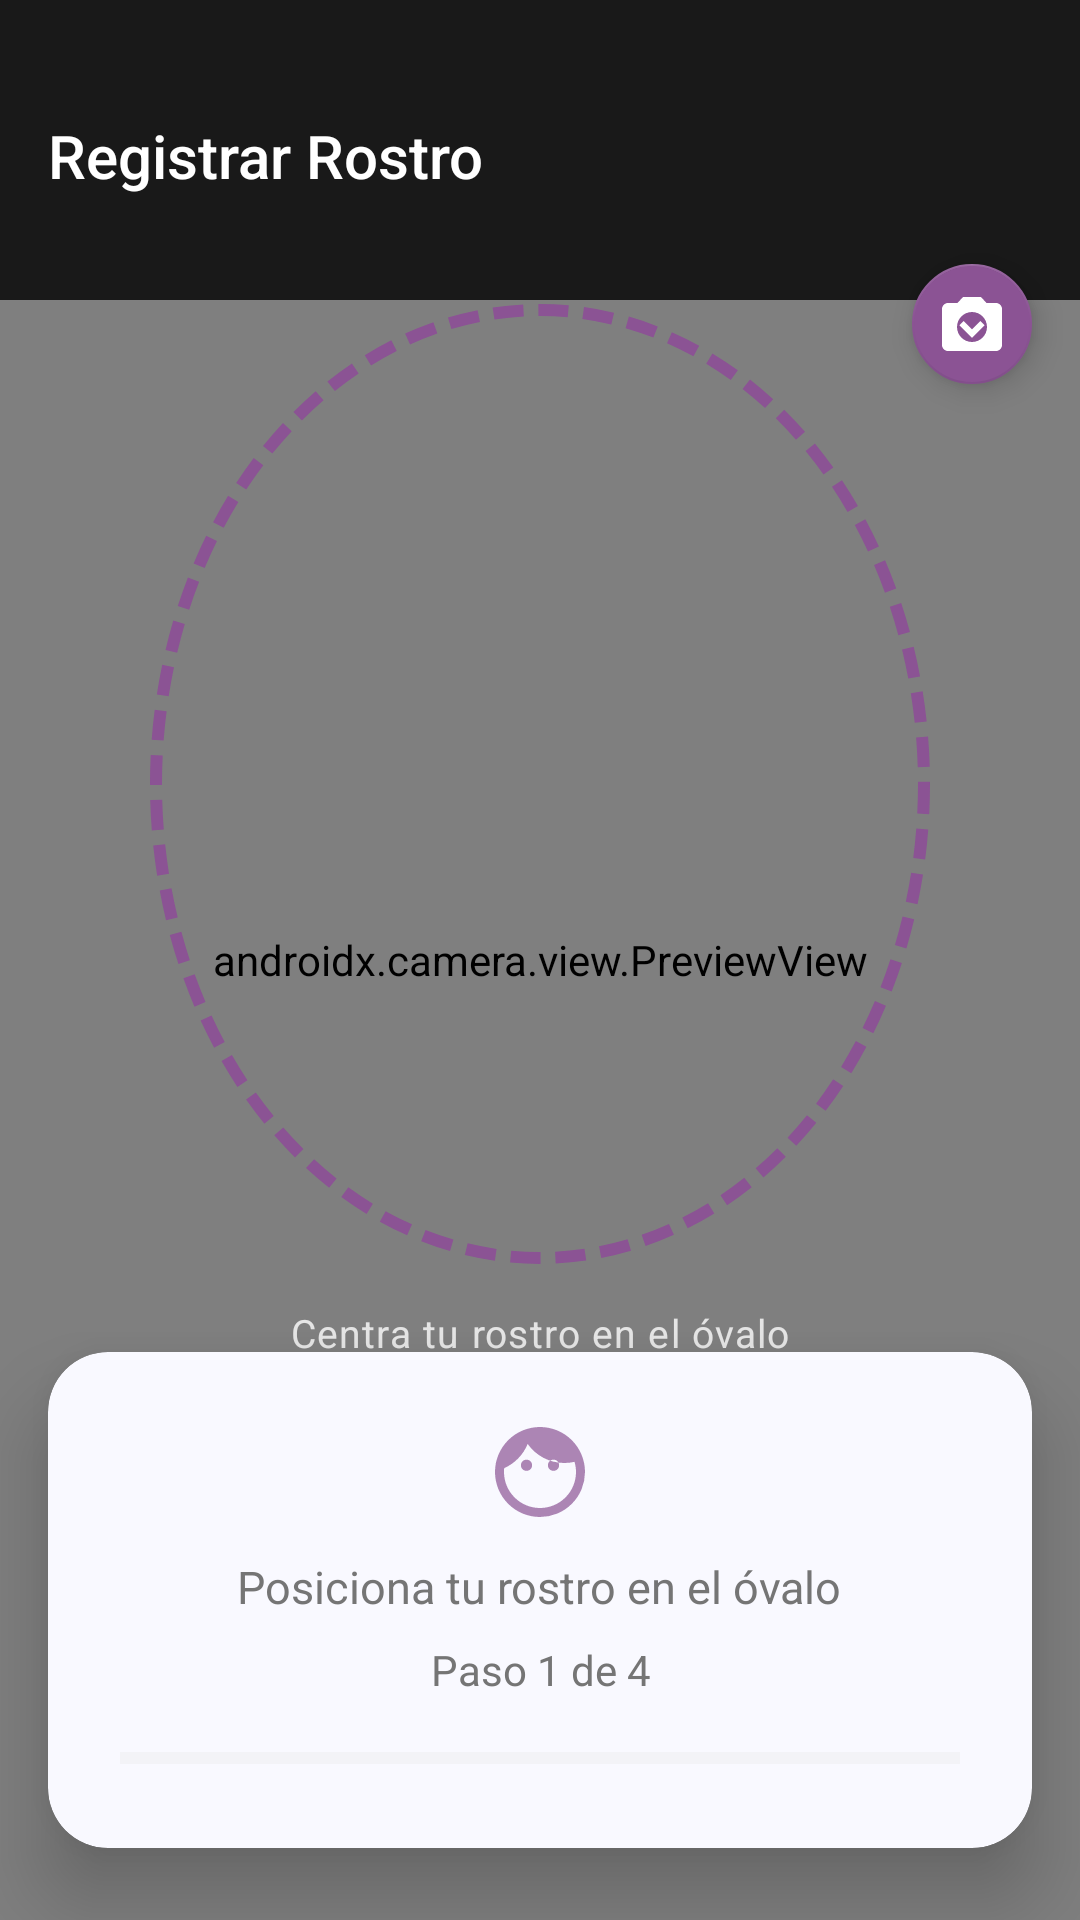

Screen size 1080 x 1920. Icon name, then its box in pixels as Rect(x1, y1, x2, y2):
face recognition: Rect(495, 1427, 585, 1517)
